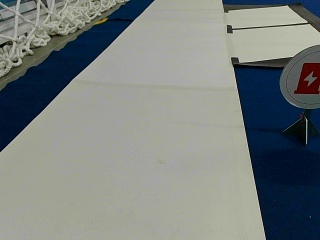battery: (281, 44, 319, 109)
